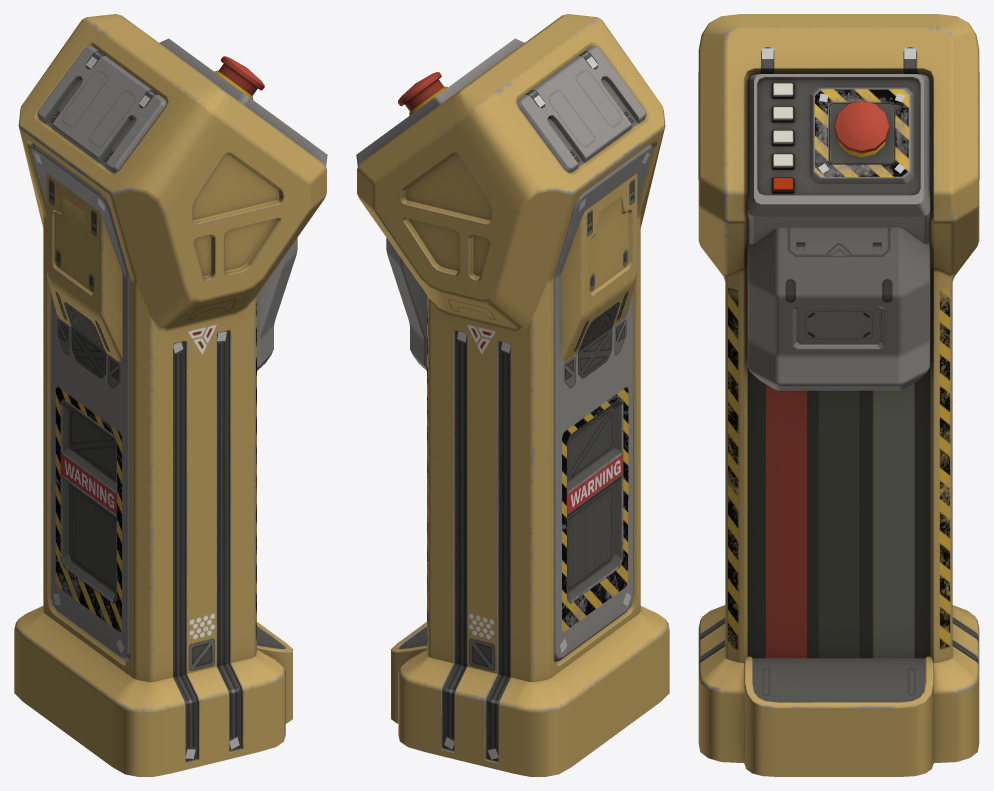
The model's file is SciFi_RemoteConrol_00.fbx.
3 views of the same model, side by side, from view 1: azimuth 30°, elevation 25°; view 2: azimuth 150°, elevation 25°; view 3: azimuth 270°, elevation 25° (orthographic). The views are drawn at different scales.
Parts seen in each view (by area): view 1: SciFi_RemoteConrol_00, SciFi_RemoteConrol_00_Decals_Bolts; view 2: SciFi_RemoteConrol_00, SciFi_RemoteConrol_00_Decals_Bolts; view 3: SciFi_RemoteConrol_00, SciFi_RemoteConrol_00_Decals_Bolts.
Boxes of the visible parts, x1,y1,x2,y2 form: SciFi_RemoteConrol_00: (14, 14, 327, 776); SciFi_RemoteConrol_00_Decals_Bolts: (34, 56, 239, 758); SciFi_RemoteConrol_00: (356, 14, 669, 776); SciFi_RemoteConrol_00_Decals_Bolts: (444, 56, 649, 759); SciFi_RemoteConrol_00: (698, 14, 979, 776); SciFi_RemoteConrol_00_Decals_Bolts: (762, 48, 915, 173).
Bounding box in the file's own units: 42.44 × 119 × 43.02.
